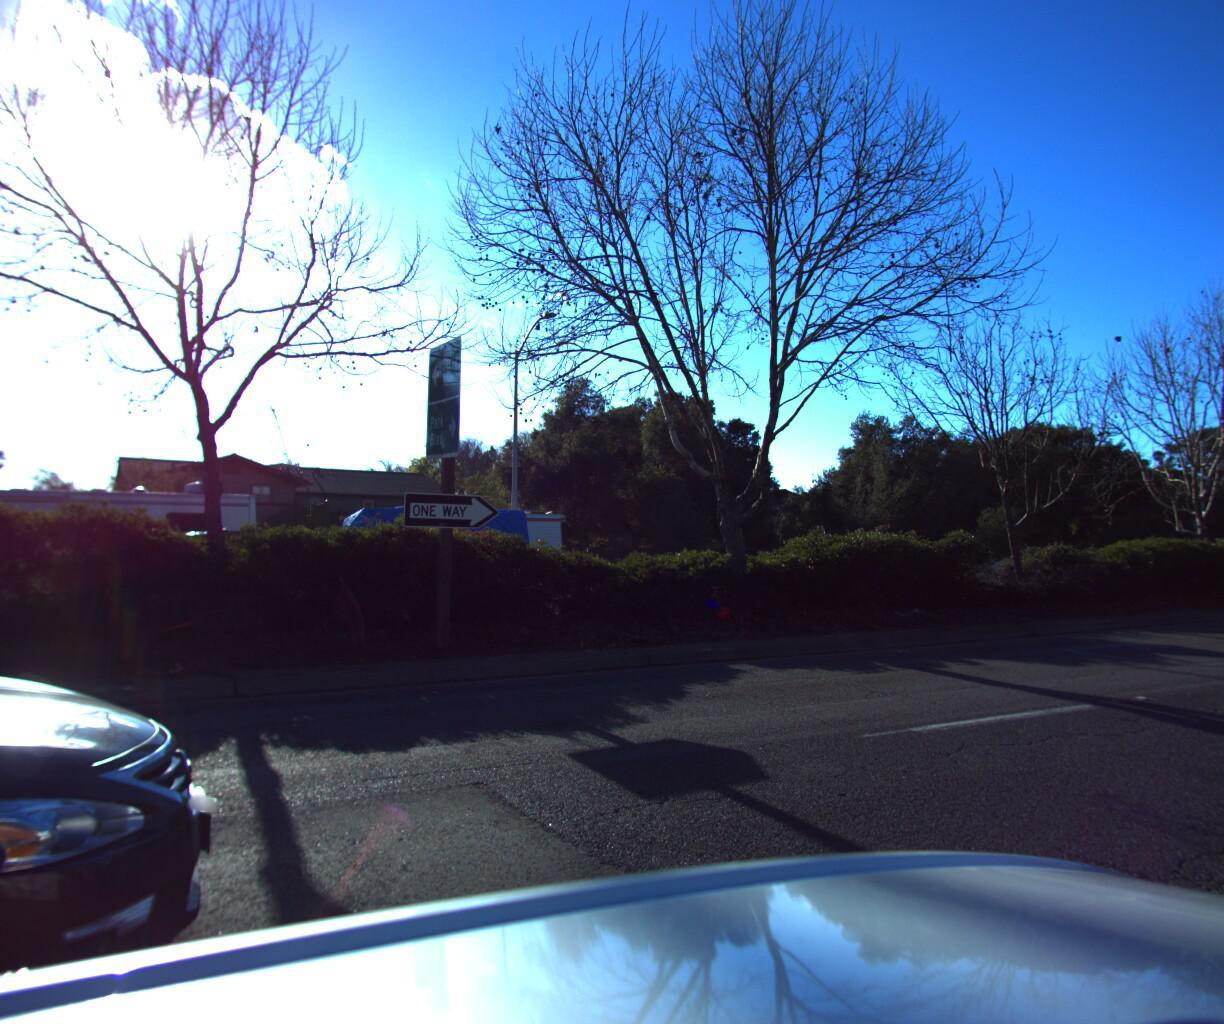car: (0, 558, 272, 1024)
other_vehicle: (0, 458, 274, 640), (318, 494, 580, 621)
